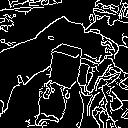cube: (43, 32, 91, 90)
